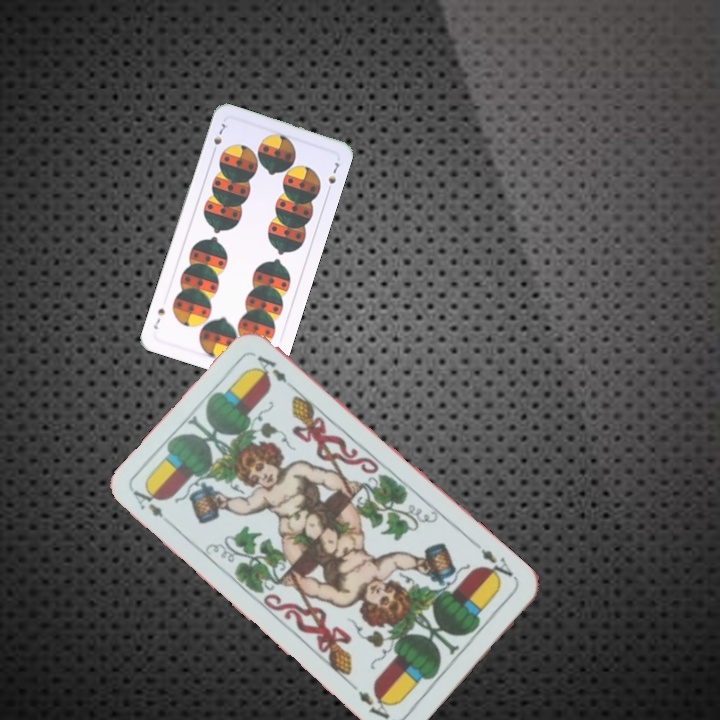EA: (129, 482, 176, 530), (476, 544, 520, 586)
S7: (208, 119, 230, 157)
